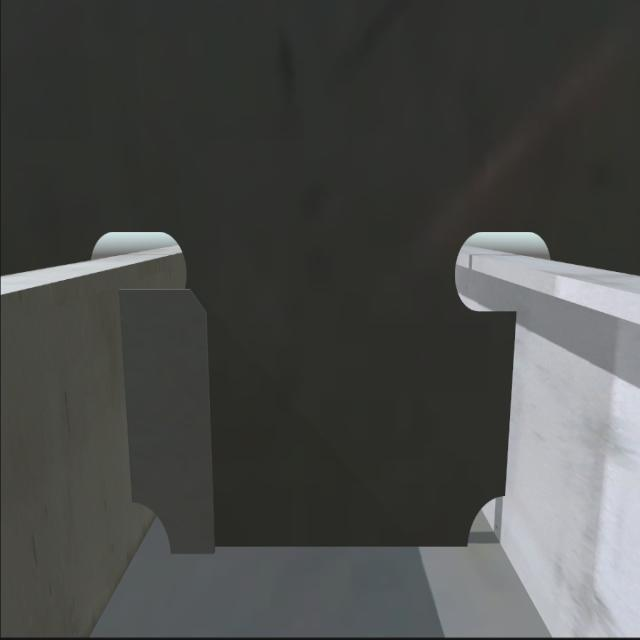fillet_hole: (132, 497, 170, 555), (467, 494, 502, 550)
fillet_yong_jeop_jang: (166, 530, 480, 554)
longi_yong_jeop_jang: (114, 284, 142, 508), (498, 298, 515, 492)
plate_CP03: (116, 284, 218, 553)
